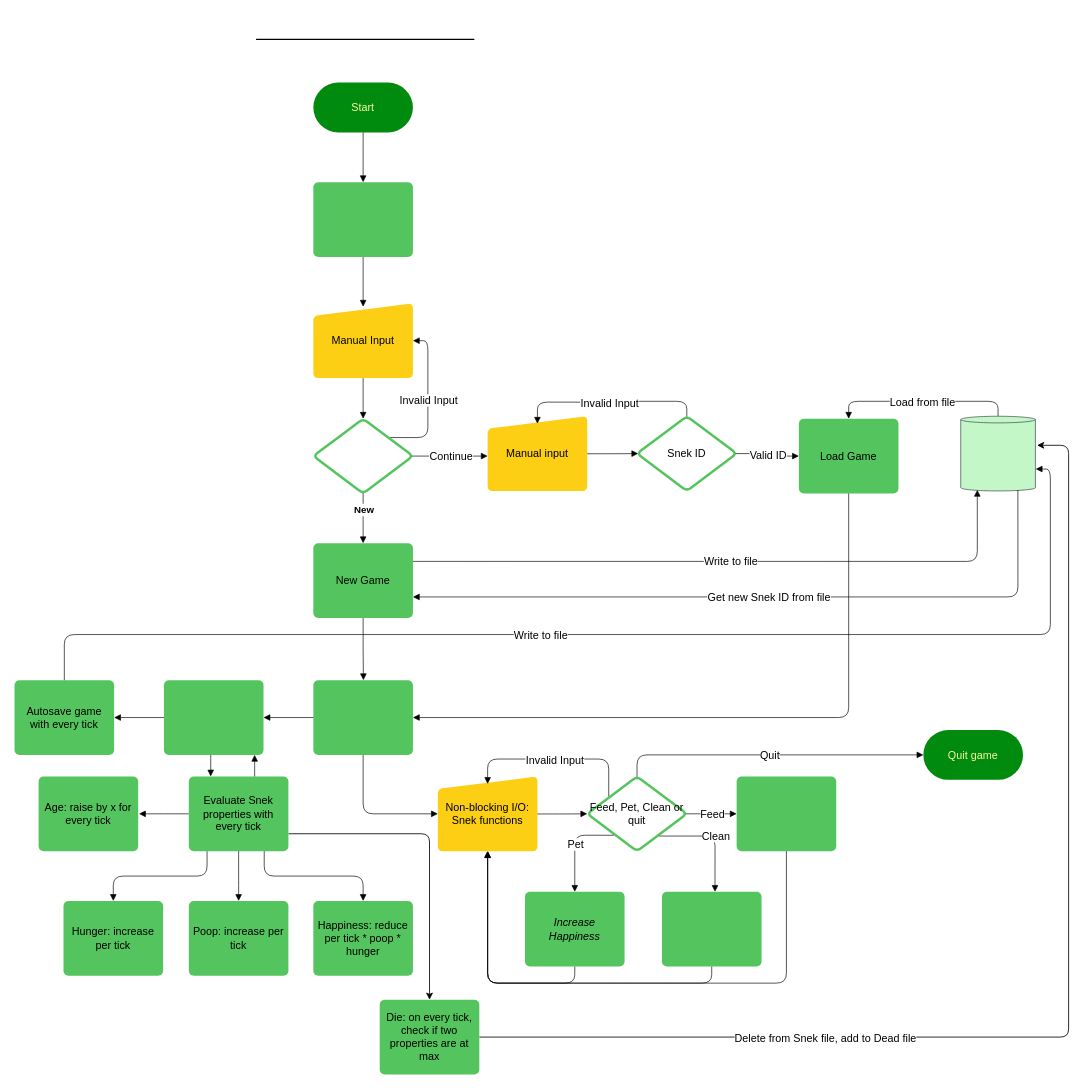
Some shapes in this 1091 by 1090 pixel diagram are drawn without their labels. Each missing label, with the centre of its shape:
Display Game: [362,717]
Display Welcome Screen: [362,219]
my little Snek: [363,27]
New or Continue: [363,455]
Reduce Hunger: [786,813]
Reduce Poop: [711,929]
Snek Data: [997,453]
Tick over time: [213,717]
